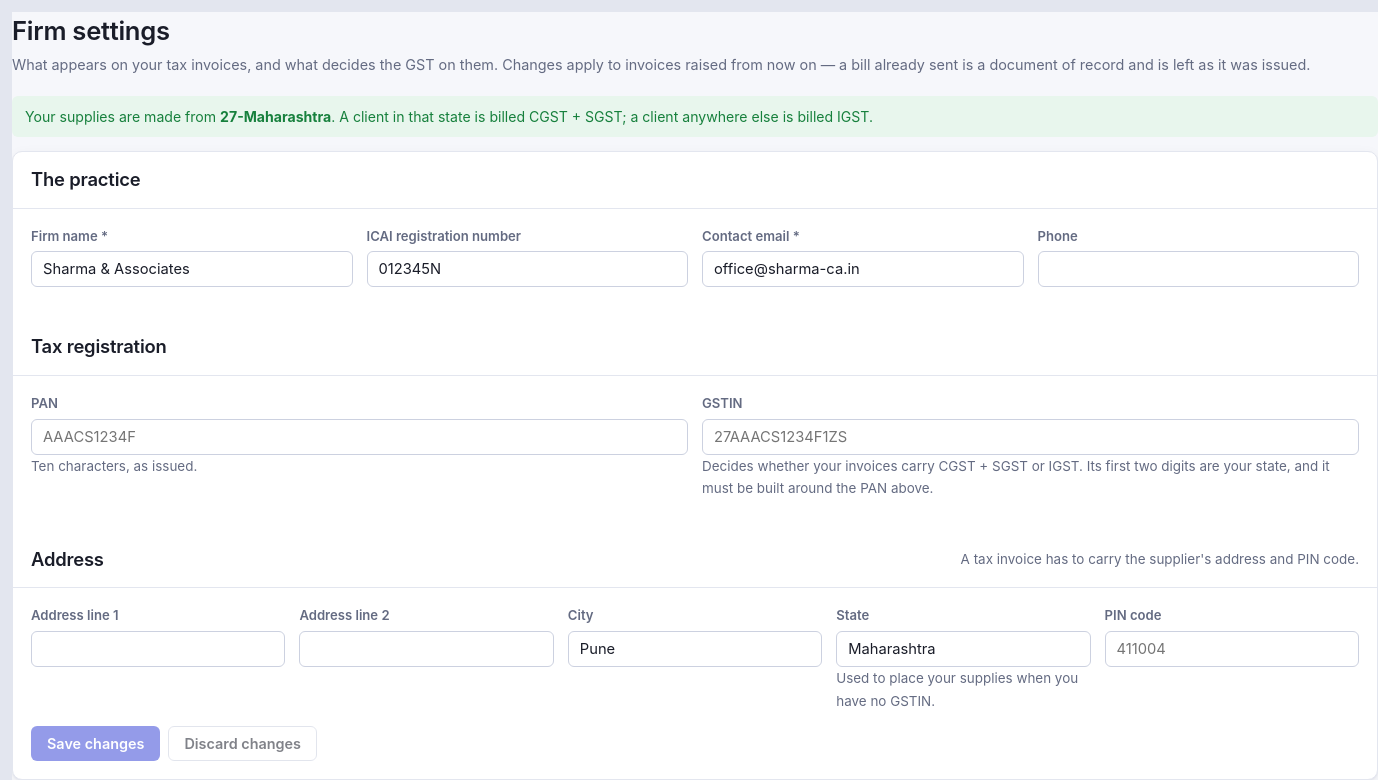
Test: Editing the firm › discards changes back to the record
Replace the text in the field labelled "City" with "Mumbai": {"x": 695, "y": 649} [568,631,822,667]
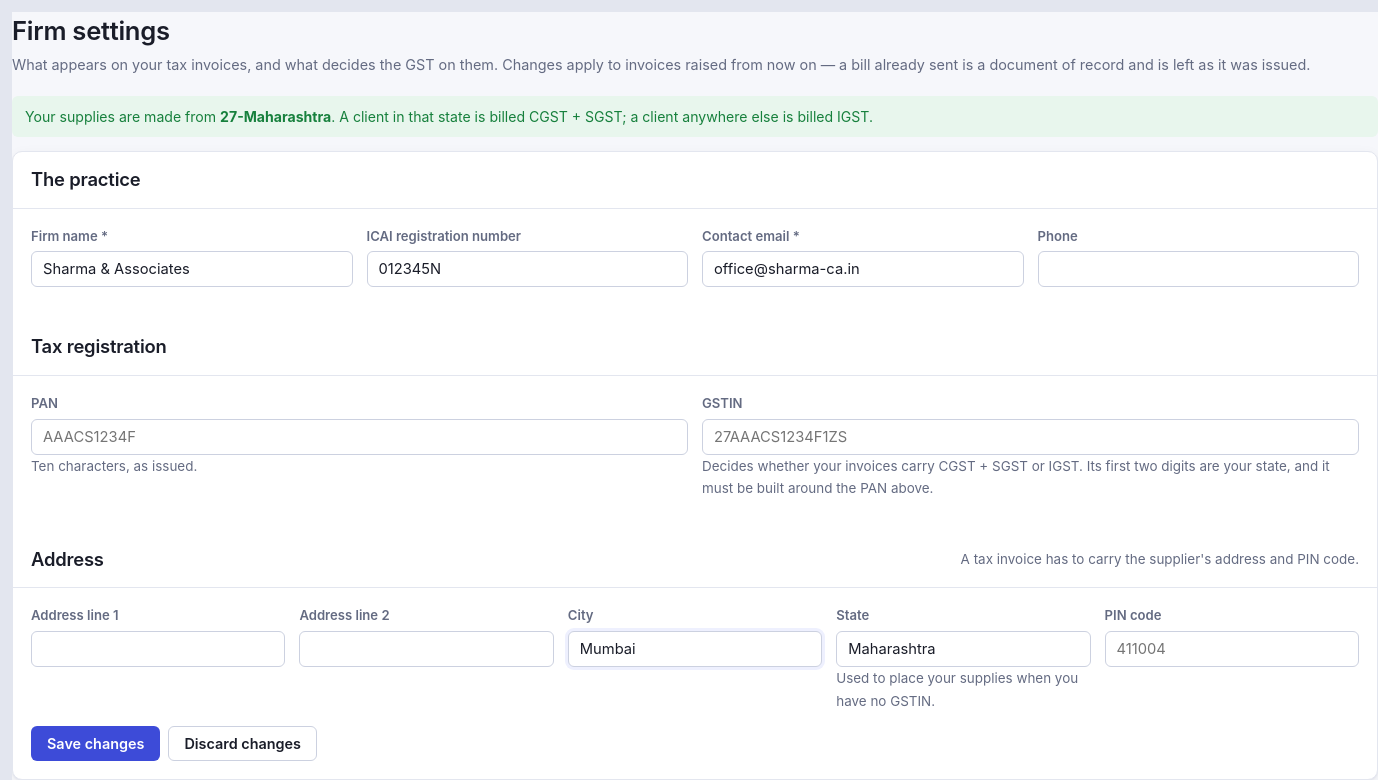
Click the button "Discard changes": {"x": 243, "y": 744} [168,726,317,761]
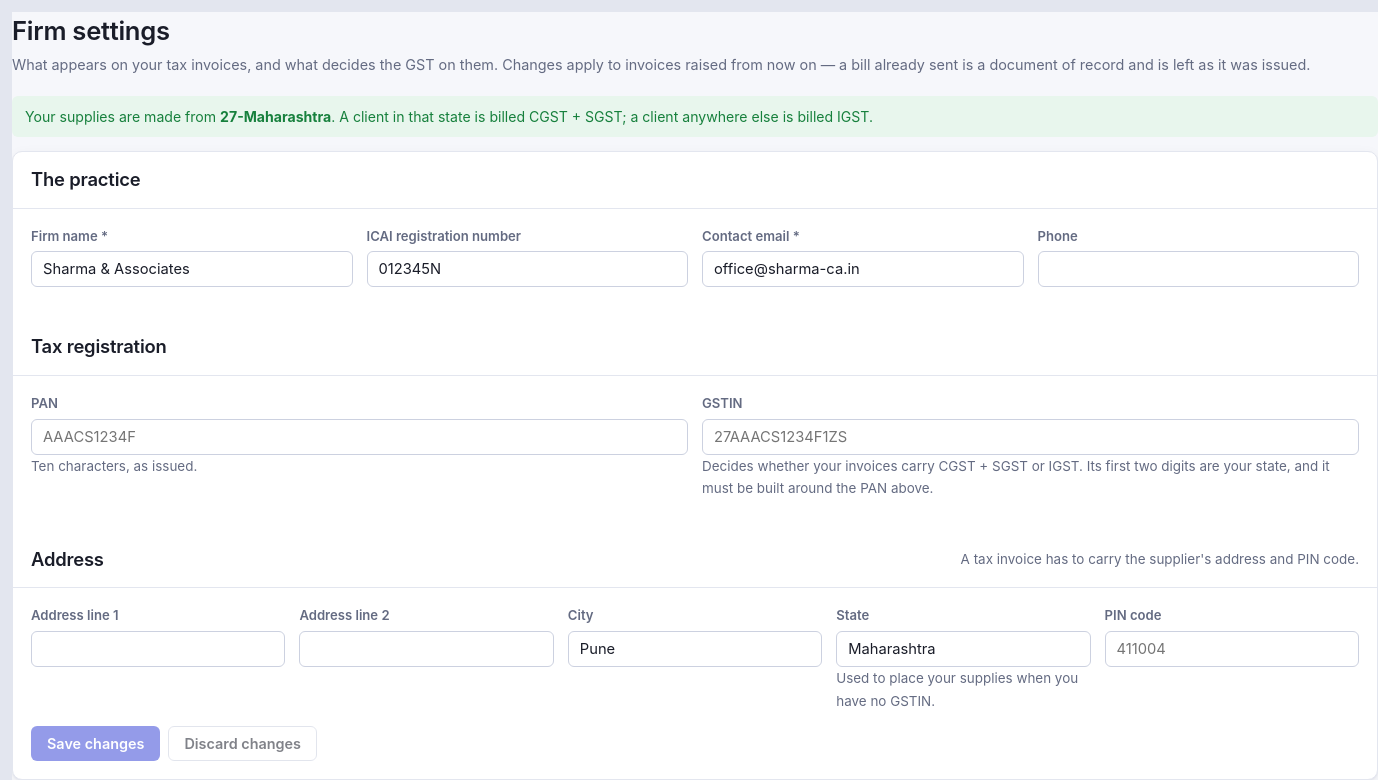
Expected: the field labelled "City" holds "Pune", [568,631,822,667]
